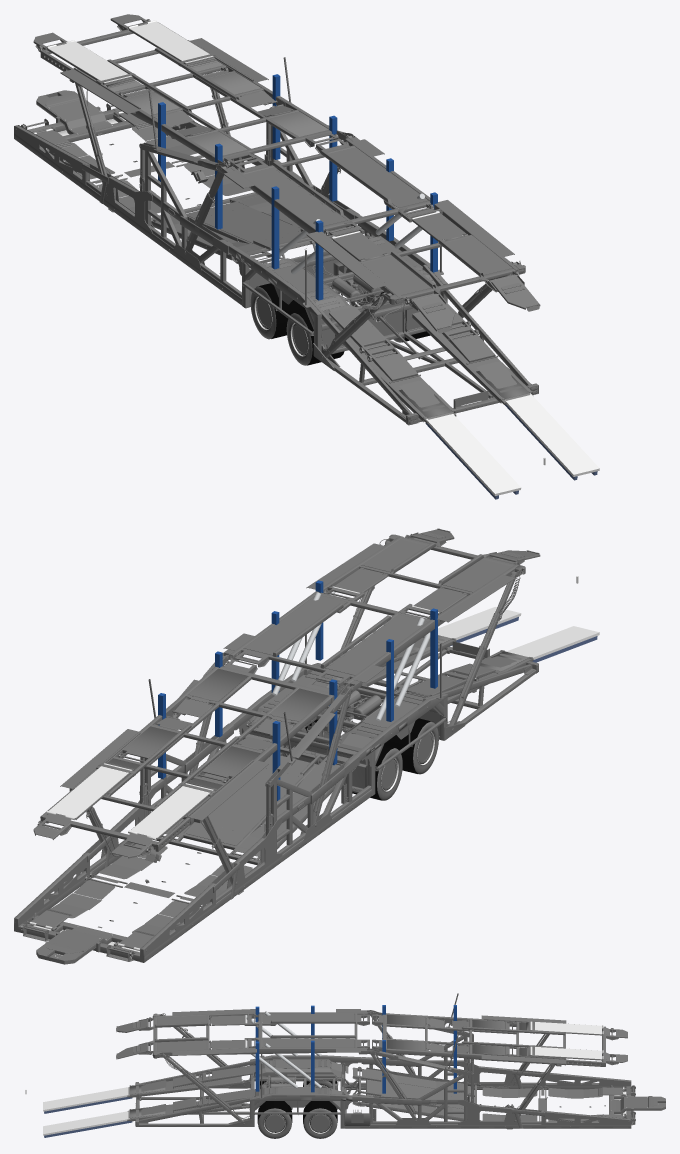
Rendered from t660_cottrell_default__trailer_v0.1.glb.
3 views of the same model, one above another, from view 1: azimuth 30°, elevation 25°; view 2: azimuth 150°, elevation 25°; view 3: azimuth 270°, elevation 25° (orthographic). The views are drawn at different scales.
Parts seen in each view (by area): view 1: piece_4.002, piece_43.001, piece_129, piece_56, piece_41.001, PROVISIONAL_RearRamp_Left_TirePath, PROVISIONAL_RearRamp_Right_TirePath, piece_85, piece_69, piece_19.001, piece_12.001, piece_104 (+7 smaller); view 2: piece_4.002, piece_43.001, piece_56, piece_41.001, piece_129, piece_85, piece_12.001, piece_96, PROVISIONAL_RearRamp_Left_TirePath, piece_69, piece_87, piece_132 (+8 smaller); view 3: piece_4.002, piece_43.001, piece_129, piece_56, piece_41.001, piece_85, piece_132, PROVISIONAL_RearRamp_Left_TirePath, PROVISIONAL_RearRamp_Right_TirePath, piece_96, piece_104, piece_12.001 (+18 smaller).
Boxes of the visible parts, box(x1,y1,x2,y2) form: piece_4.002: box(29, 14, 539, 423); piece_43.001: box(14, 121, 359, 305); piece_129: box(220, 208, 538, 425); piece_56: box(219, 135, 525, 304); piece_41.001: box(72, 41, 347, 166); PROVISIONAL_RearRamp_Left_TirePath: box(425, 414, 521, 496); PROVISIONAL_RearRamp_Right_TirePath: box(504, 393, 599, 476); piece_85: box(186, 202, 308, 249); piece_69: box(249, 254, 440, 349); piece_19.001: box(45, 94, 112, 134); piece_12.001: box(33, 17, 253, 109); piece_104: box(86, 74, 520, 350); piece_4.002: box(27, 529, 539, 952); piece_43.001: box(14, 538, 519, 962); piece_56: box(222, 534, 525, 692); piece_41.001: box(71, 656, 346, 825); piece_129: box(222, 646, 538, 795); piece_85: box(186, 755, 319, 845); piece_12.001: box(33, 732, 253, 858); piece_96: box(148, 654, 352, 787); PROVISIONAL_RearRamp_Left_TirePath: box(506, 626, 599, 659); piece_69: box(55, 685, 439, 954); piece_87: box(18, 912, 139, 961); piece_132: box(252, 670, 428, 752); piece_4.002: box(116, 1009, 629, 1121); piece_43.001: box(345, 1036, 631, 1128); piece_129: box(135, 1055, 372, 1128); piece_56: box(153, 1010, 372, 1058); piece_41.001: box(368, 1012, 565, 1065); piece_85: box(360, 1077, 463, 1109); piece_132: box(254, 1059, 340, 1105); PROVISIONAL_RearRamp_Left_TirePath: box(43, 1087, 129, 1111); PROVISIONAL_RearRamp_Right_TirePath: box(43, 1111, 129, 1135); piece_96: box(368, 993, 473, 1076); piece_104: box(157, 1013, 550, 1119); piece_12.001: box(483, 1019, 627, 1064).
Size of the model in its own units: 3.49 by 3.02 by 16.47.
